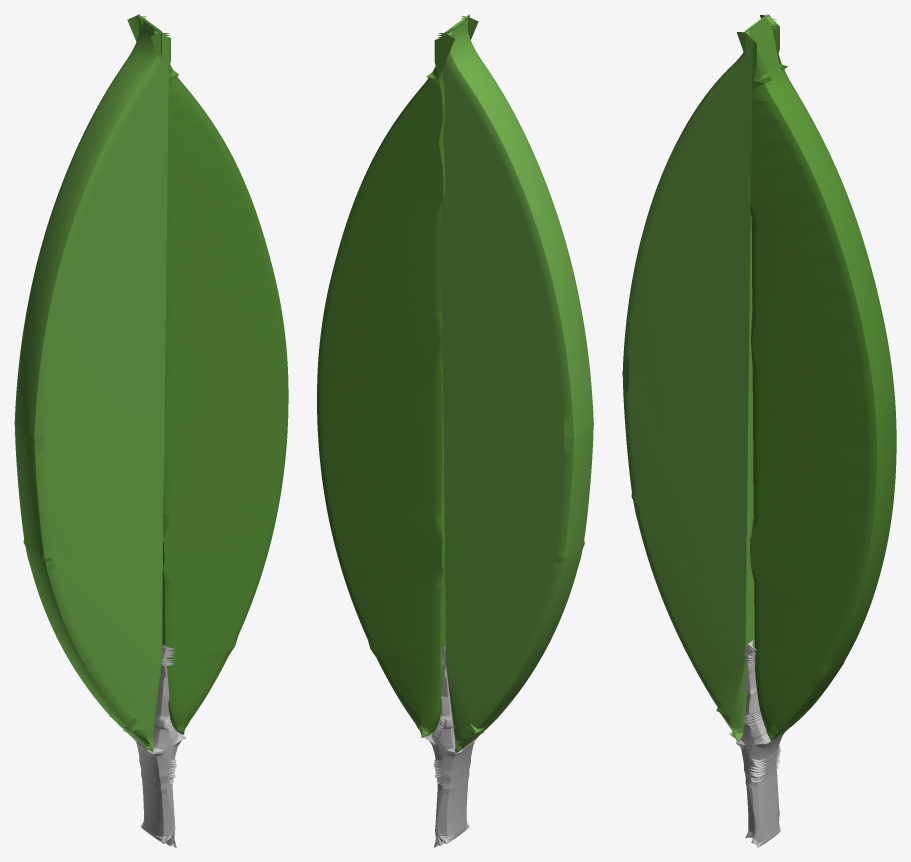
File: mongodb.gltf
3 views of the same model, side by side, from view 1: azimuth 30°, elevation 25°; view 2: azimuth 150°, elevation 25°; view 3: azimuth 330°, elevation 25° (orthographic).
Parts seen in each view (by area): view 1: Path (×3); view 2: Path (×3); view 3: Path (×3).
Part boxes in pixels (x1,y1,x2,y2): Path (×3): (14,14,288,847); Path (×3): (317,14,593,847); Path (×3): (622,14,896,847).
Size of the model in its own units: 0.1 by 0.3 by 0.017.
